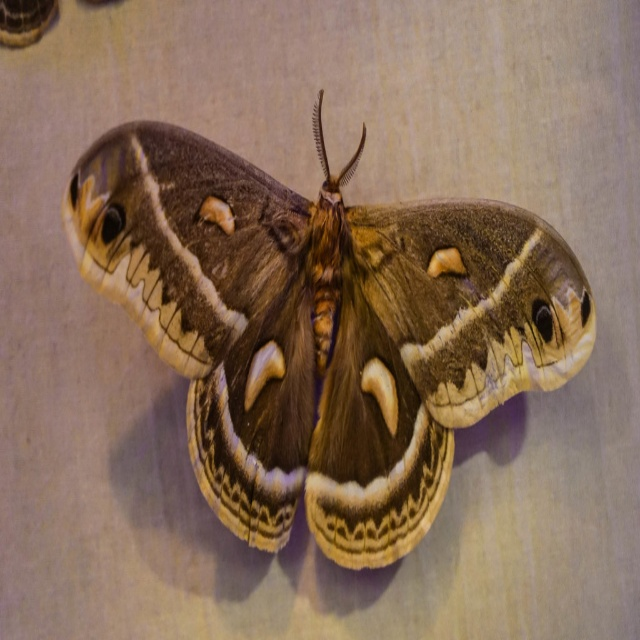Butterfly: (61, 90, 598, 570), (0, 0, 120, 51)
